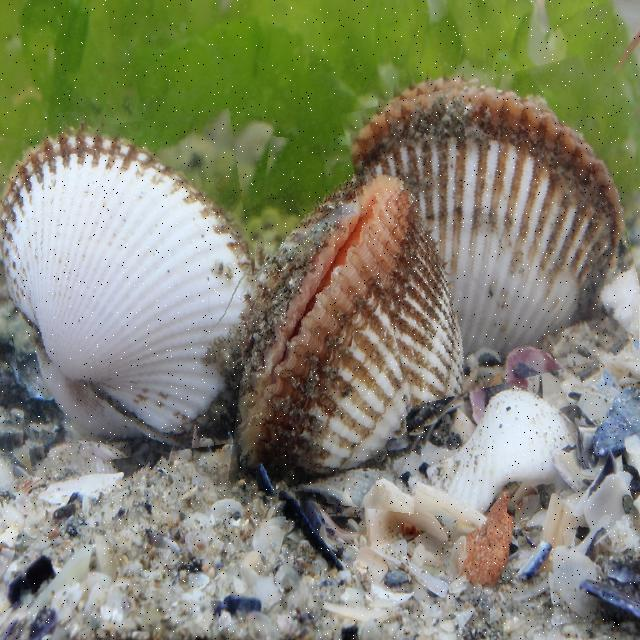Anadara_kagoshimensis: (357, 68, 639, 394), (0, 116, 264, 463), (237, 141, 447, 509)
